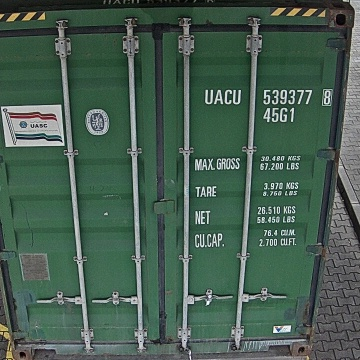serial_id: (204, 89, 331, 104)
